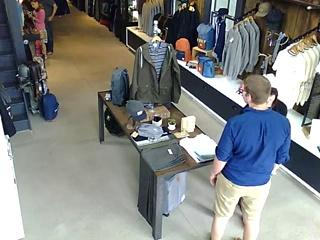Normal: (209, 74, 291, 240), (40, 0, 58, 56)
